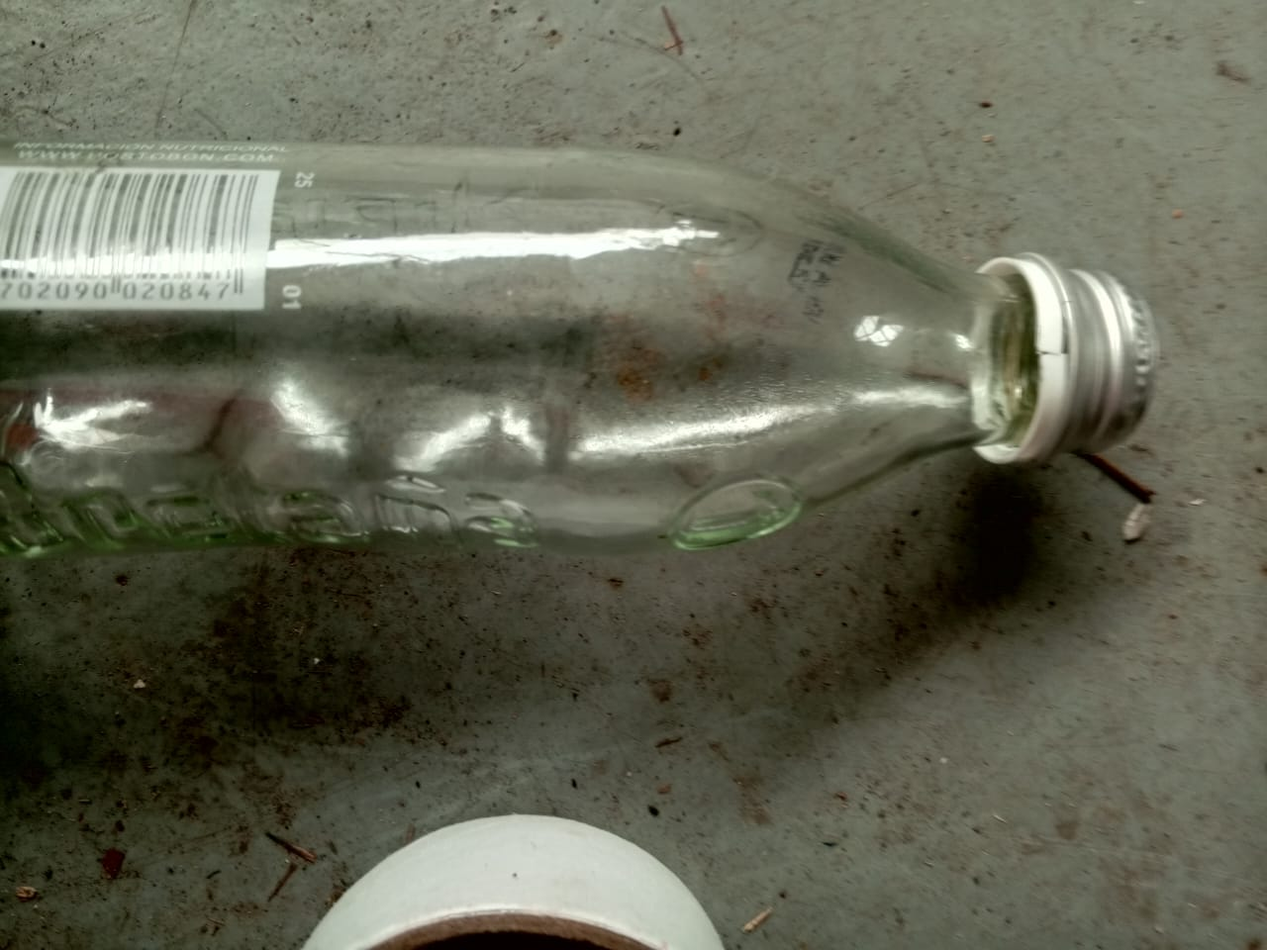Metal: (1023, 253, 1158, 468)
Vidrio: (0, 143, 1020, 553)
